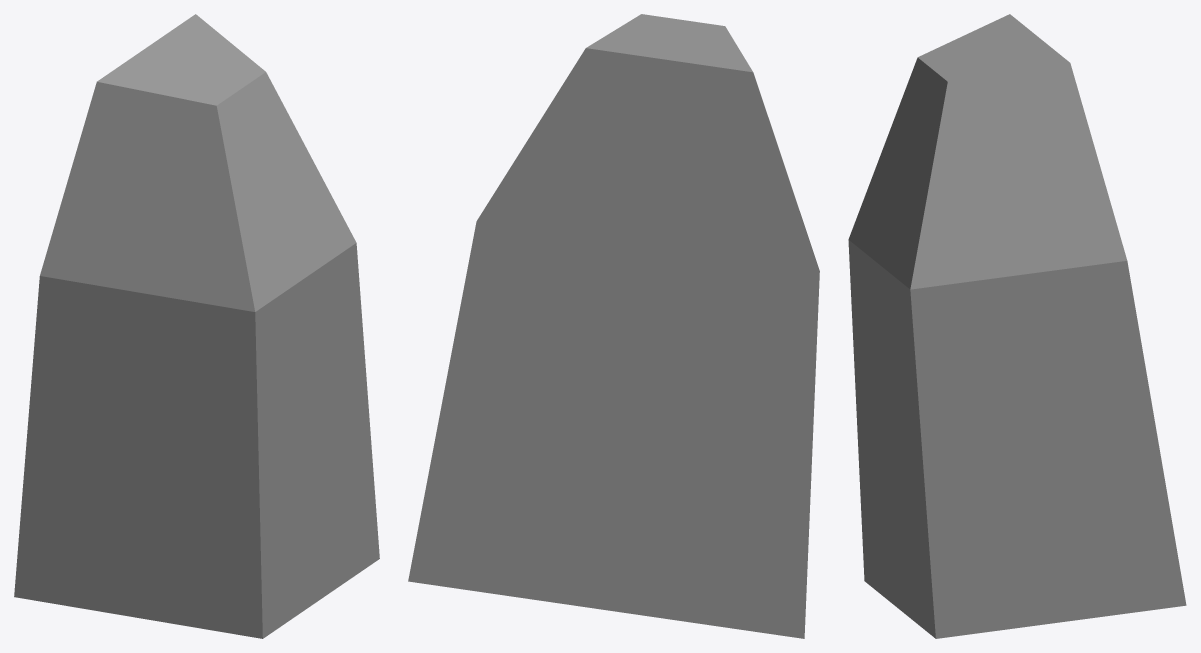
Rendered from stone_3.fbx.
3 renders of one model, left to right at view 1: azimuth 30°, elevation 25°; view 2: azimuth 150°, elevation 25°; view 3: azimuth 270°, elevation 25°, orthographic. The views are drawn at different scales.
Visible parts, largest first — view 1: stone_3; view 2: stone_3; view 3: stone_3.
Part boxes in pixels (box(x1,y1,x2,y2)): stone_3: box(14, 14, 379, 638); stone_3: box(408, 14, 819, 638); stone_3: box(848, 14, 1186, 638).
Bounding box in the file's own units: 131 × 217 × 124.
